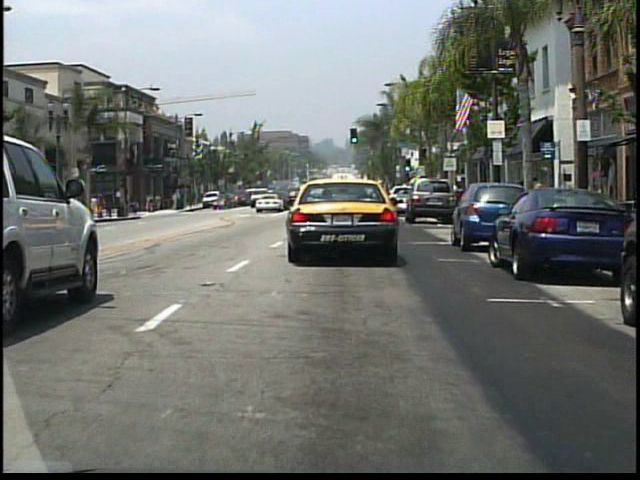person: (527, 174, 544, 217), (223, 187, 233, 211)
